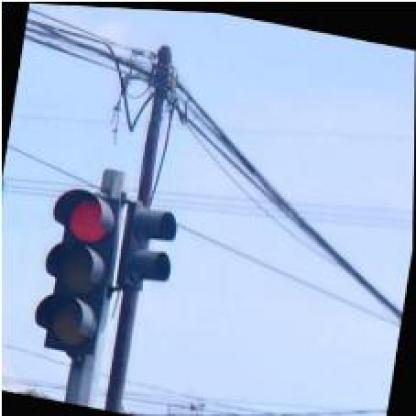red: (28, 183, 122, 359)
